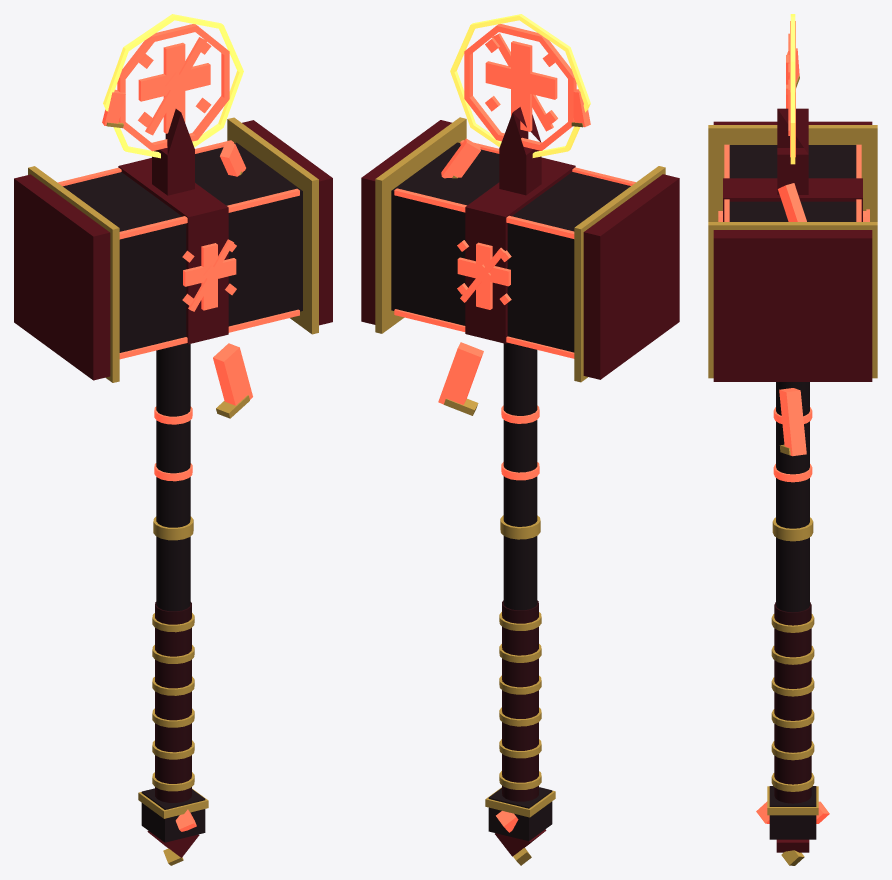
3 renders of one model, left to right at view 1: azimuth 30°, elevation 25°; view 2: azimuth 150°, elevation 25°; view 3: azimuth 270°, elevation 25°, orthographic.
Parts seen in each view (by area): view 1: meteor-maul; view 2: meteor-maul; view 3: meteor-maul.
Part boxes in pixels (x1=…): meteor-maul: x1=14, y1=14, x2=332, y2=865; meteor-maul: x1=361, y1=14, x2=679, y2=865; meteor-maul: x1=708, y1=14, x2=877, y2=865.
Size of the model in its own units: 0.5082 by 1.73 by 0.3111.
